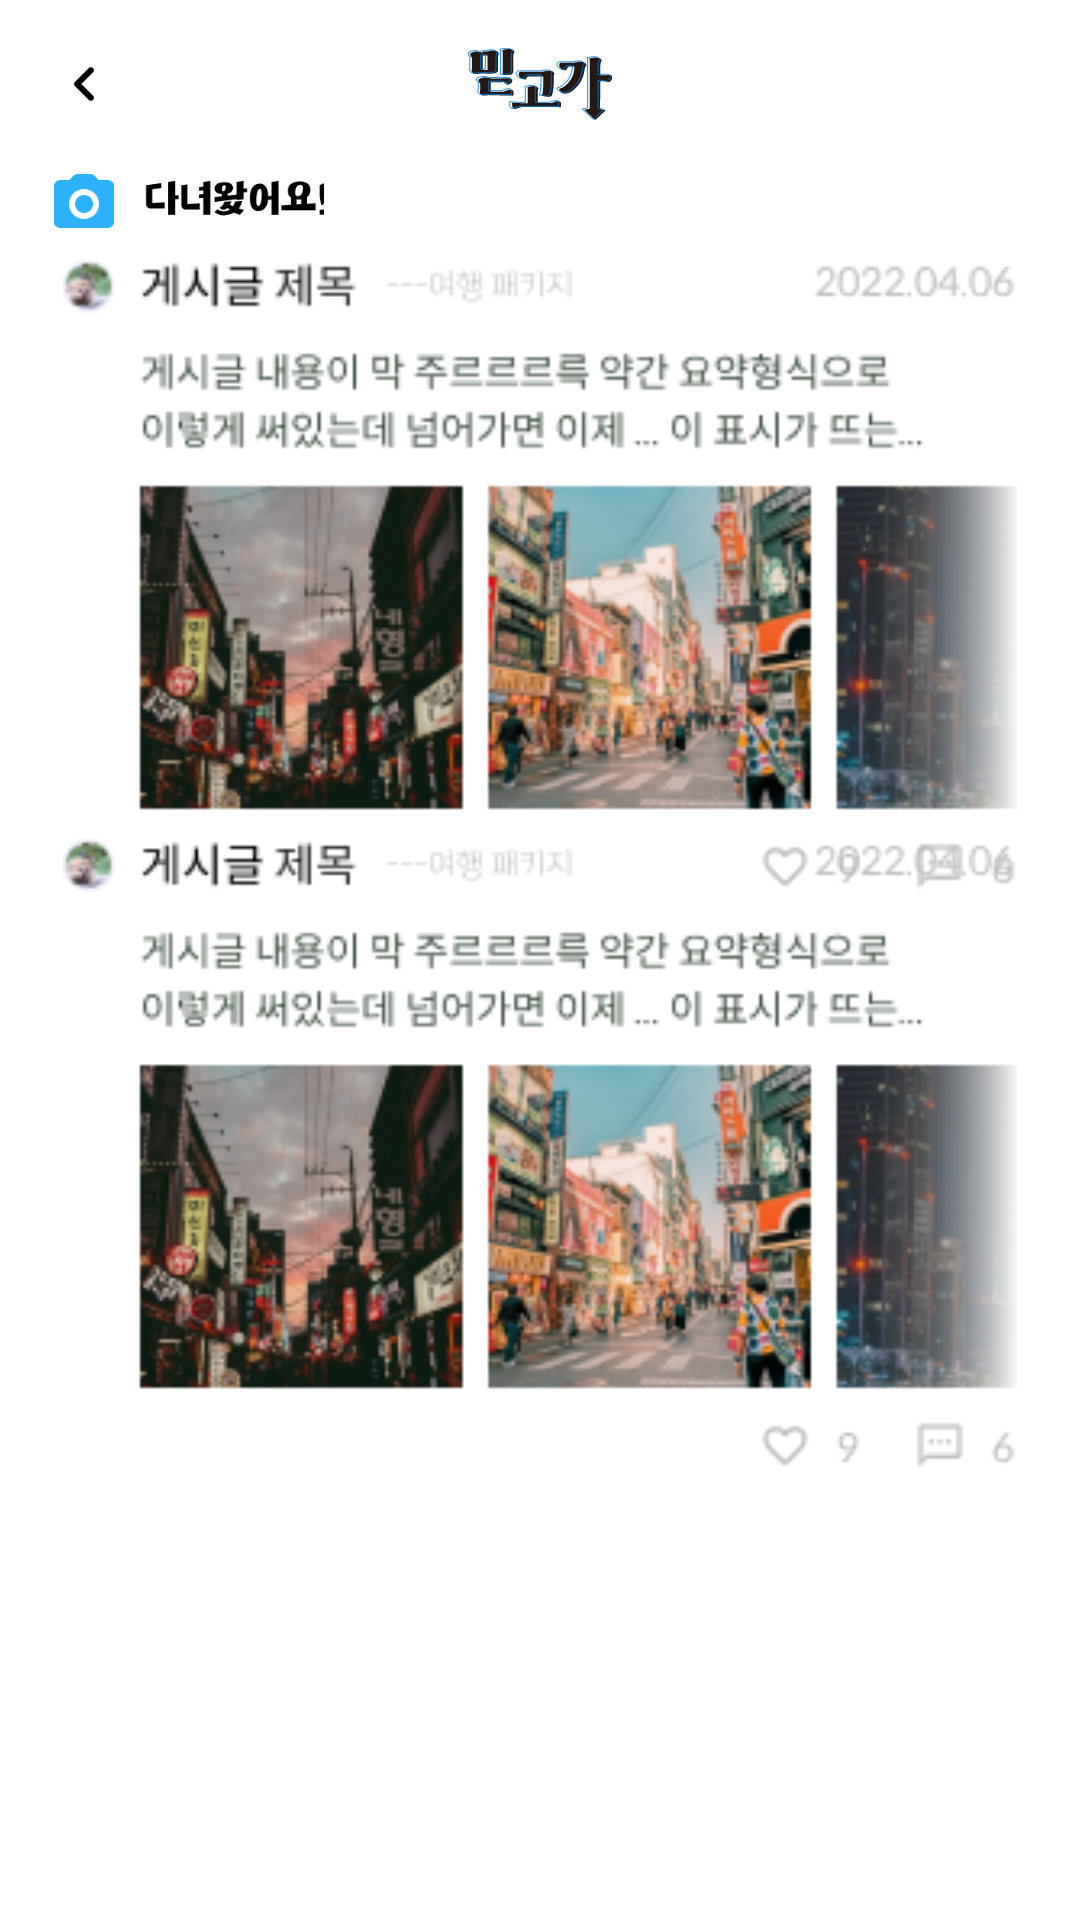

Icons on this 1080px×1920px Android screen, each with its box as (x1, y1, x2, y2):
back: (74, 67, 94, 101)
camera: (54, 174, 114, 228)
